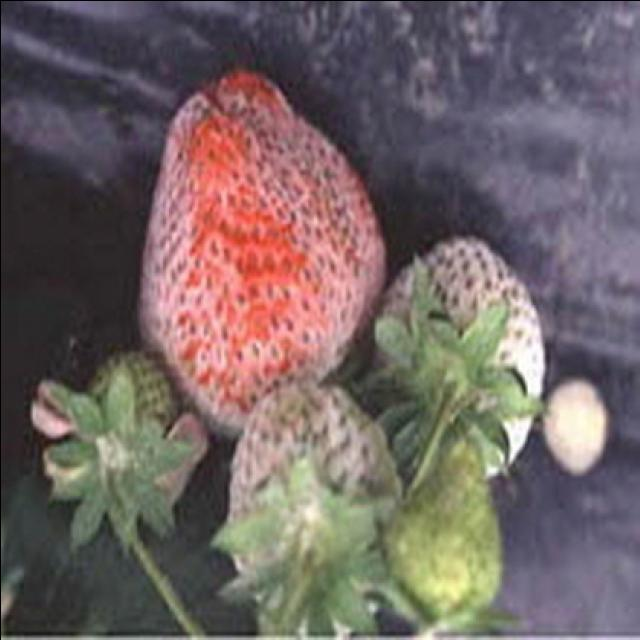Powdery Mildew Fruit: (136, 65, 384, 440), (207, 377, 405, 640), (357, 235, 544, 478)
